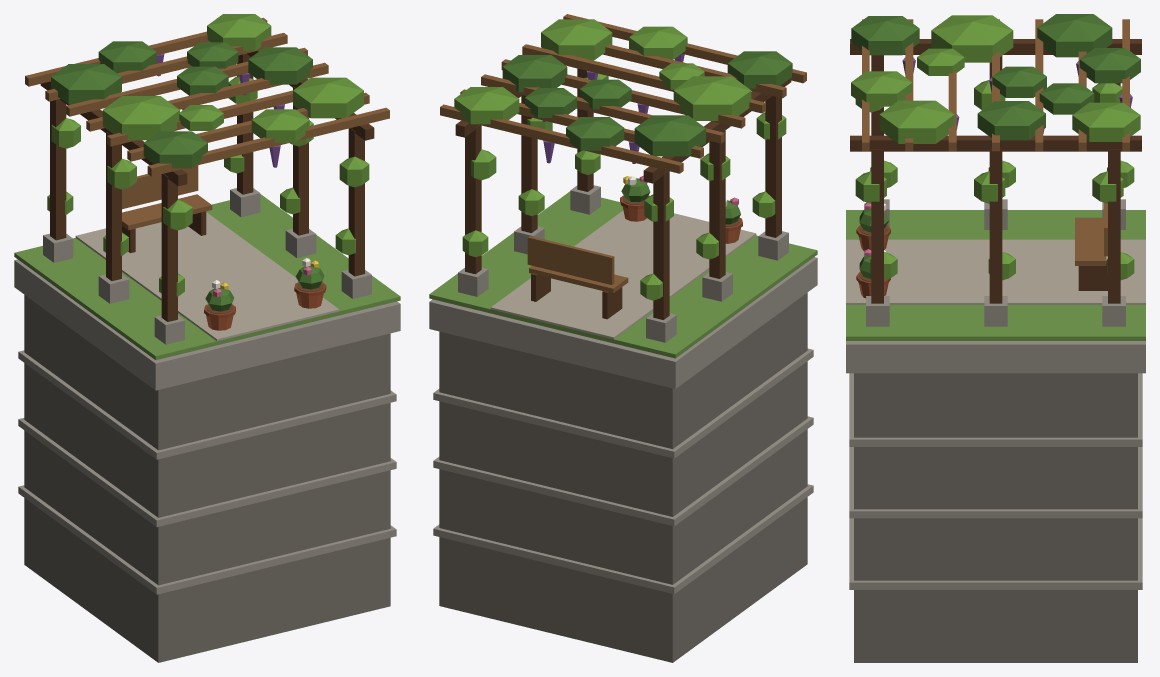
Rendered from decor_pergola.glb.
3 renders of one model, left to right at view 1: azimuth 30°, elevation 25°; view 2: azimuth 150°, elevation 25°; view 3: azimuth 270°, elevation 25°, orthographic. The views are drawn at different scales.
Visible parts, largest first — view 1: decor_pergola; view 2: decor_pergola; view 3: decor_pergola.
Part boxes in pixels (bbox=[...]): decor_pergola: bbox=[14, 14, 400, 662]; decor_pergola: bbox=[429, 14, 817, 662]; decor_pergola: bbox=[846, 14, 1145, 662].
Bounding box in the file's own units: 3.8 × 7.57 × 3.8.
